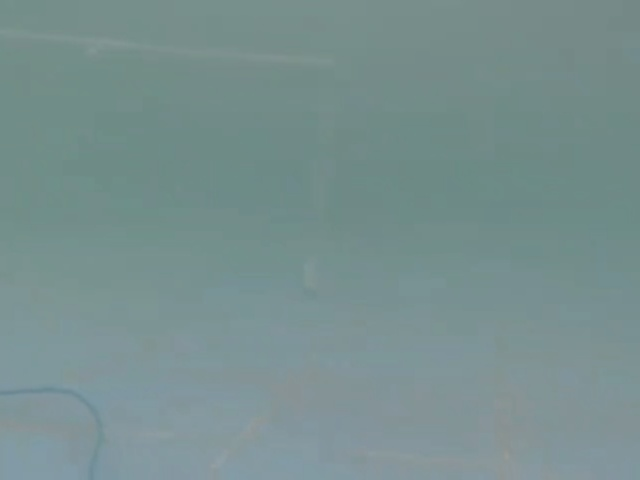gate: (0, 16, 378, 331)
